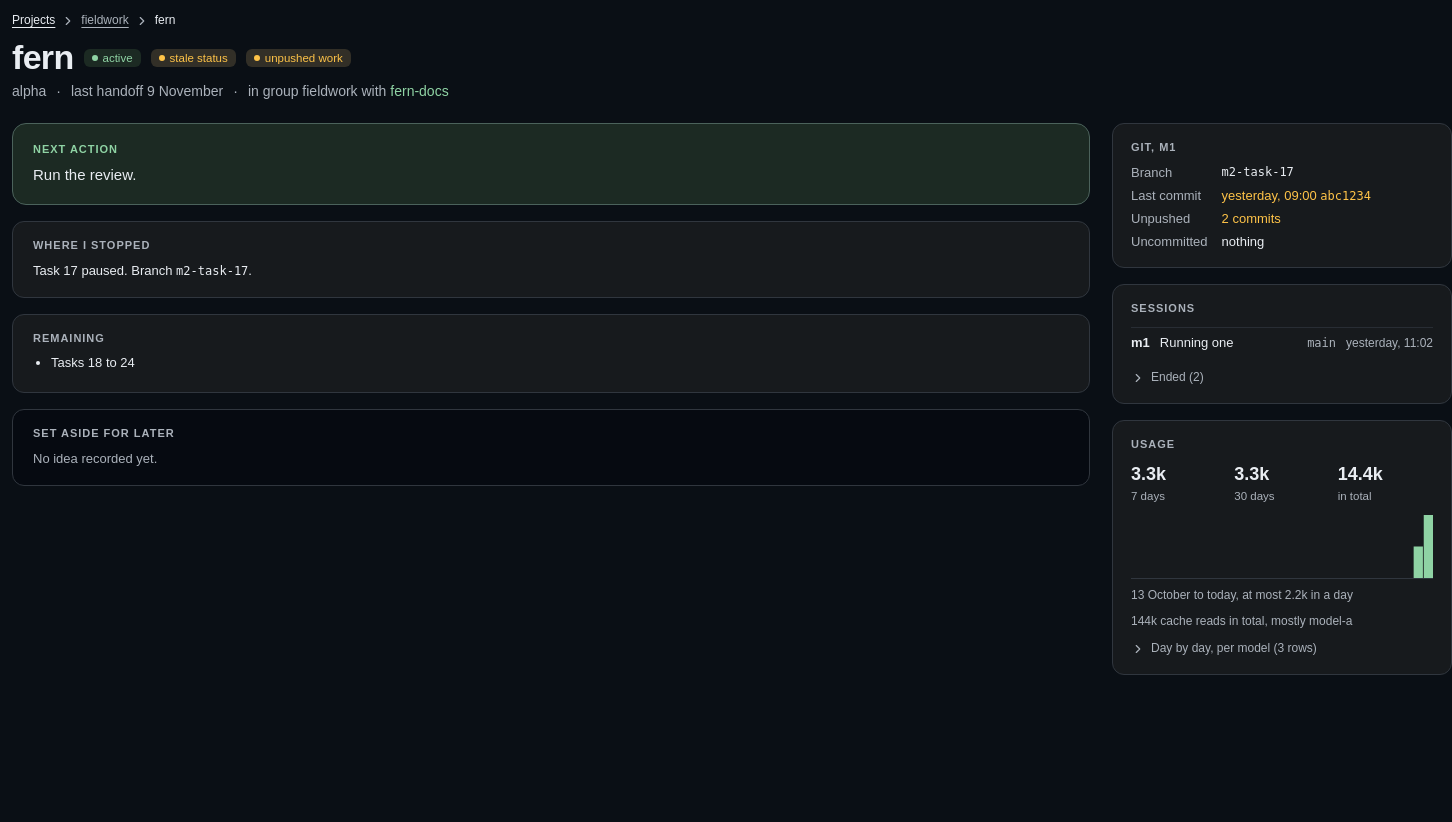
the Sessions card folds ended sessions apart until asked for
Expected: the element "Sessions" shows "Running one", [1160,335,1234,350]
Expected: the element "Sessions" does not show "Done one", [1112,284,1451,404]
Click the button "Ended (2)".
click(1167, 378)  # box [1131,369,1204,387]
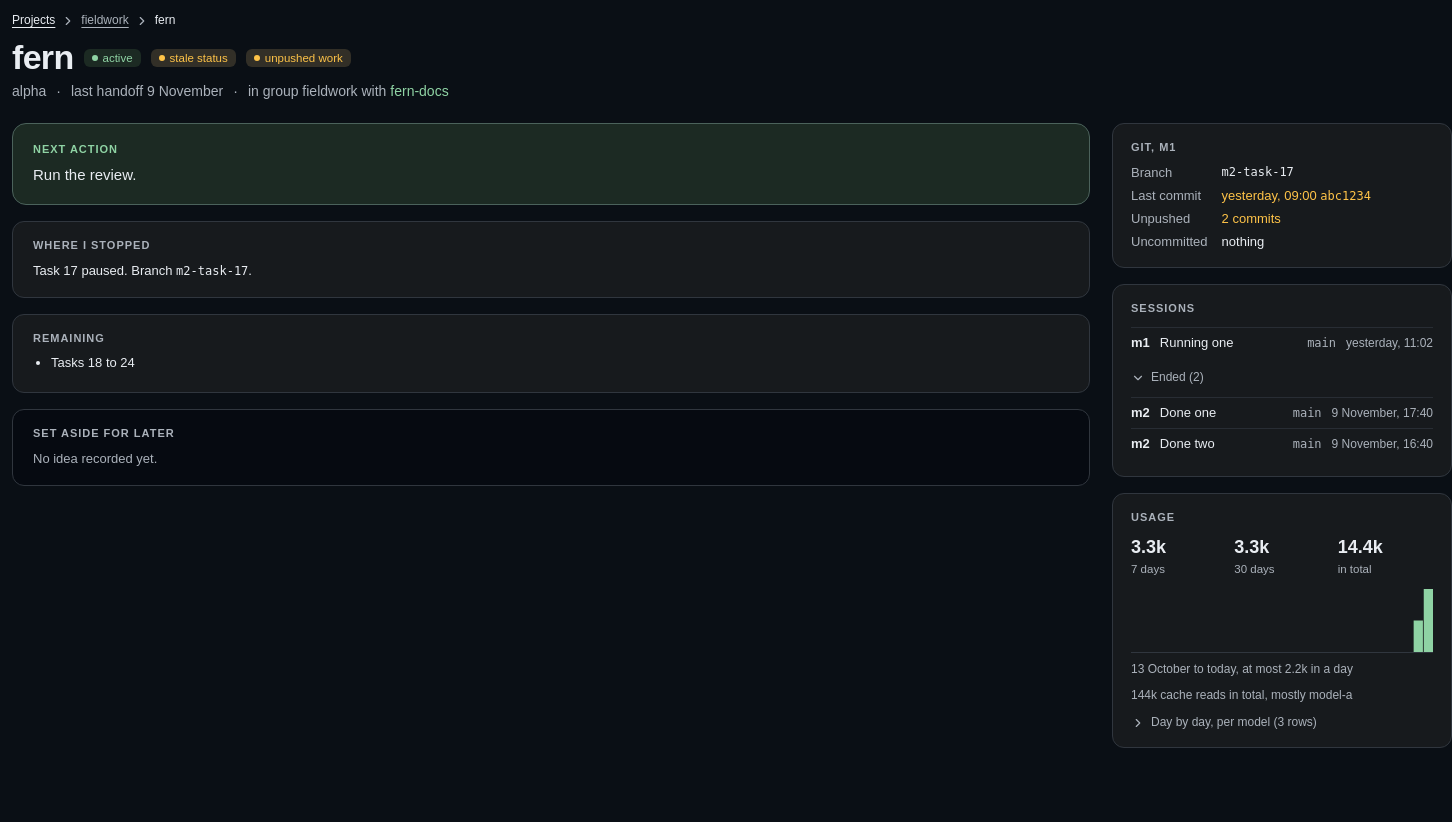
Expected: the element "Sessions" shows "Done two", [1160,436,1215,451]
